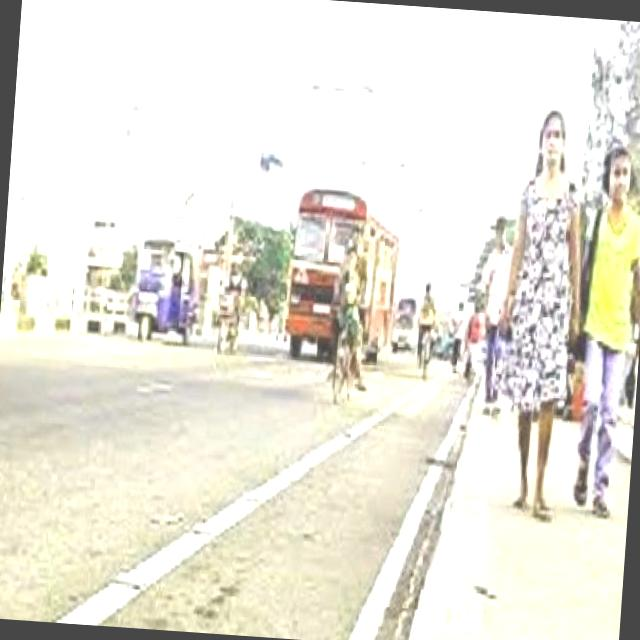Person: (470, 98, 592, 525), (565, 137, 640, 520)
